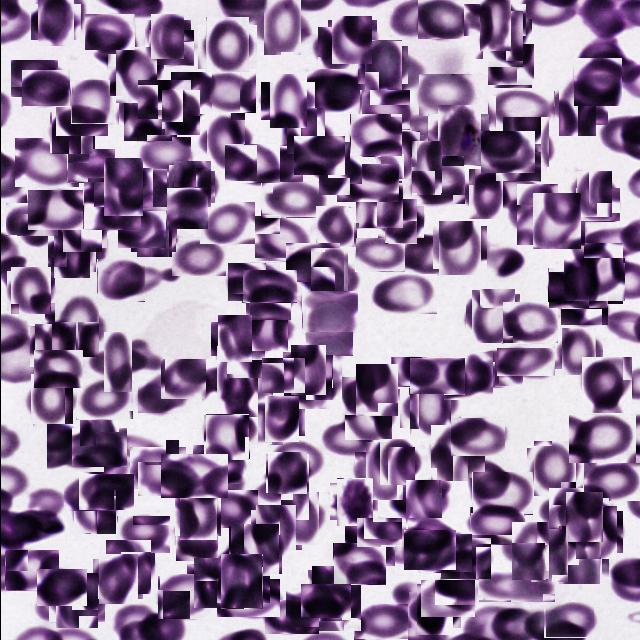red blood cell: (208, 352, 265, 410), (565, 245, 623, 302), (568, 415, 635, 463), (295, 69, 364, 115), (15, 138, 78, 187), (160, 454, 227, 498), (48, 298, 102, 352), (580, 358, 633, 412), (120, 86, 173, 140), (428, 426, 482, 479), (156, 574, 218, 620), (530, 194, 582, 247), (46, 424, 103, 472), (83, 182, 140, 230), (370, 273, 436, 314), (404, 381, 456, 433), (510, 188, 562, 240), (499, 120, 551, 172), (487, 91, 554, 131), (471, 472, 532, 515), (253, 216, 310, 262), (201, 21, 252, 72), (230, 524, 280, 576), (193, 72, 256, 113), (304, 303, 352, 356), (260, 181, 326, 219), (102, 542, 152, 592), (554, 530, 604, 580), (110, 50, 160, 100), (220, 323, 270, 373), (132, 443, 182, 492), (552, 82, 602, 131), (52, 576, 101, 626), (304, 252, 353, 302), (547, 268, 606, 309), (468, 292, 517, 341), (217, 557, 266, 606), (98, 163, 147, 212), (530, 444, 578, 494), (434, 224, 484, 272), (216, 579, 279, 617), (477, 572, 554, 603), (336, 164, 398, 202), (201, 117, 249, 166), (418, 74, 474, 116), (501, 302, 557, 344), (301, 291, 357, 333), (27, 376, 75, 424), (359, 447, 407, 495), (288, 357, 336, 405), (478, 15, 526, 63), (573, 58, 621, 106), (572, 508, 620, 556), (506, 528, 554, 576), (352, 366, 400, 414), (443, 352, 492, 399), (26, 190, 82, 231), (75, 380, 132, 420), (200, 202, 254, 244), (480, 131, 534, 173), (344, 393, 392, 440), (403, 234, 459, 274), (223, 144, 279, 184), (349, 114, 401, 157), (332, 543, 385, 585), (4, 550, 58, 591), (75, 424, 122, 471), (319, 420, 377, 458), (9, 60, 67, 98), (418, 532, 471, 573), (355, 182, 402, 228), (243, 304, 290, 350), (136, 80, 190, 120), (232, 402, 282, 445), (417, 0, 472, 39), (439, 538, 490, 580), (172, 238, 228, 276), (583, 463, 639, 501), (137, 374, 190, 414), (258, 4, 304, 50), (276, 496, 322, 542), (526, 532, 572, 578), (264, 78, 310, 124), (94, 556, 140, 602), (285, 243, 339, 282), (410, 166, 464, 205), (95, 432, 165, 462), (469, 506, 524, 544), (419, 580, 474, 618), (403, 530, 455, 570), (408, 358, 464, 395), (32, 324, 78, 369), (204, 414, 249, 460), (470, 0, 517, 44), (226, 263, 279, 302), (284, 589, 337, 628), (96, 259, 144, 302), (450, 418, 504, 456), (389, 479, 451, 512), (467, 351, 522, 388), (192, 445, 244, 484), (252, 508, 298, 552), (116, 516, 169, 554), (360, 90, 410, 130), (344, 526, 394, 566), (293, 136, 344, 175), (247, 146, 302, 182), (317, 586, 362, 630), (329, 18, 374, 62), (136, 137, 190, 173), (353, 604, 407, 640), (79, 474, 133, 510), (206, 490, 257, 528), (271, 442, 322, 480), (8, 269, 52, 313), (412, 588, 456, 632), (378, 132, 422, 176), (360, 43, 404, 87), (488, 43, 532, 87), (544, 492, 588, 536), (561, 495, 605, 539), (72, 490, 116, 534), (96, 340, 140, 384), (9, 198, 53, 242), (407, 518, 459, 555), (286, 348, 329, 392), (190, 561, 233, 605), (60, 207, 104, 250), (175, 516, 217, 561), (159, 359, 205, 400), (93, 28, 140, 68), (117, 169, 166, 207), (33, 350, 82, 388), (36, 569, 86, 606), (50, 111, 93, 154), (34, 1, 77, 44), (401, 484, 445, 526), (404, 146, 448, 188), (264, 600, 318, 634), (559, 288, 607, 326), (241, 270, 296, 303), (20, 70, 69, 107), (464, 172, 506, 215), (284, 110, 327, 152), (64, 475, 114, 511), (84, 14, 134, 50), (544, 602, 594, 638), (117, 211, 165, 248), (314, 205, 356, 247), (50, 232, 92, 274), (170, 163, 212, 205), (332, 480, 374, 522), (176, 496, 218, 538), (158, 92, 200, 134), (313, 148, 355, 190), (494, 144, 540, 182), (467, 459, 508, 501), (170, 72, 211, 114), (166, 186, 207, 228), (70, 80, 109, 124), (354, 238, 404, 272), (300, 584, 350, 618), (133, 213, 174, 254), (266, 453, 307, 494), (573, 173, 614, 214), (213, 318, 254, 359), (314, 29, 356, 69), (147, 30, 193, 66), (583, 228, 638, 258), (558, 331, 598, 372), (376, 442, 417, 482), (66, 149, 114, 183), (496, 348, 554, 376), (310, 568, 350, 608), (261, 398, 301, 438), (147, 16, 187, 56), (260, 358, 304, 394), (341, 376, 380, 416), (55, 106, 107, 136), (390, 356, 438, 388), (574, 188, 619, 222), (381, 202, 420, 241), (248, 286, 290, 321), (355, 518, 401, 548), (74, 446, 122, 474)
trophozoite: (432, 110, 484, 162)
